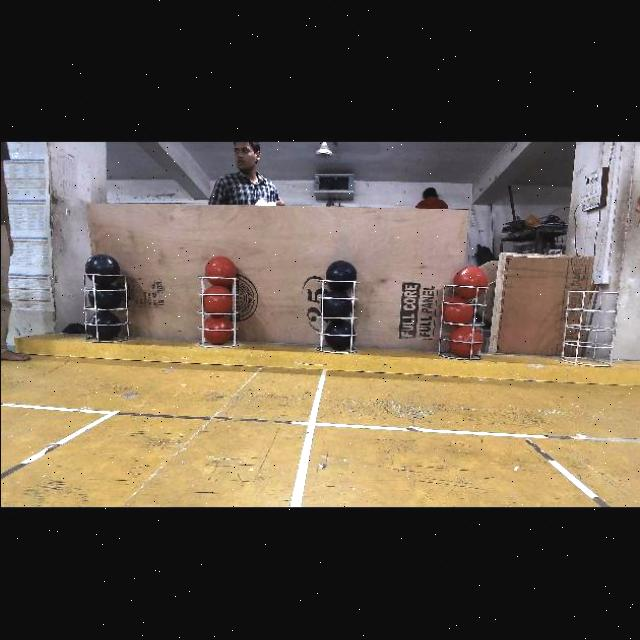P: (85, 253, 119, 283), (324, 317, 354, 348), (88, 310, 120, 338), (88, 282, 120, 310), (326, 259, 356, 287), (320, 290, 350, 316)
R: (450, 324, 482, 354), (455, 265, 485, 295), (202, 315, 234, 343), (441, 296, 472, 324), (202, 284, 232, 312), (204, 255, 234, 283)
S: (562, 284, 616, 362), (438, 278, 488, 360), (77, 274, 136, 342), (193, 270, 240, 346), (313, 274, 357, 352)
